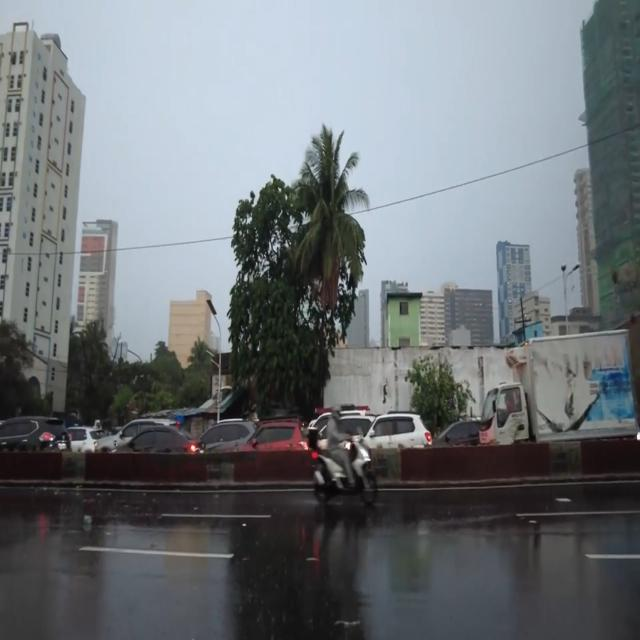full: (331, 403, 342, 423)
